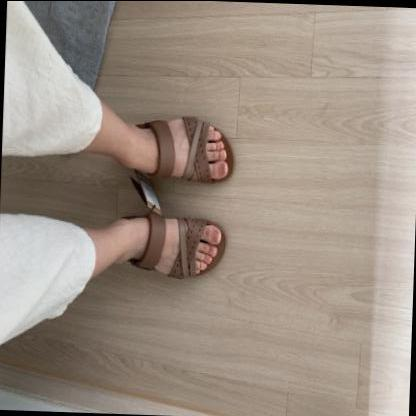no_safety-shoe: (117, 90, 241, 191), (106, 212, 234, 281)
